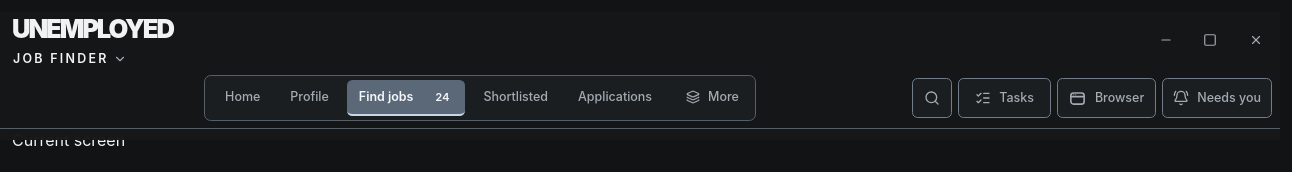
it: JobFinderShell section navigation › gives both module names the menu's full width instead of shortening one
Click the button "Job Finder" at (70, 59), box [8,49,132,69]
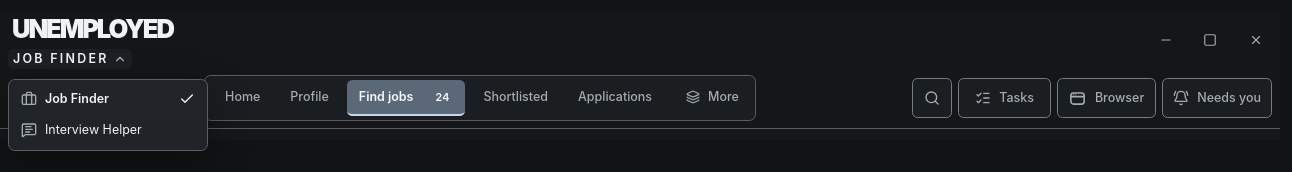
Expected: the 2nd text "Job Finder" is shown, [45,91,109,106]
Expected: the text "Interview Helper" is shown, [45,122,142,137]
Press ArrowDown in the menu, box [8,79,208,150]
Press ArrowUp in the menu, box [8,79,208,150]
Press Escape in the menu, box [8,79,208,150]
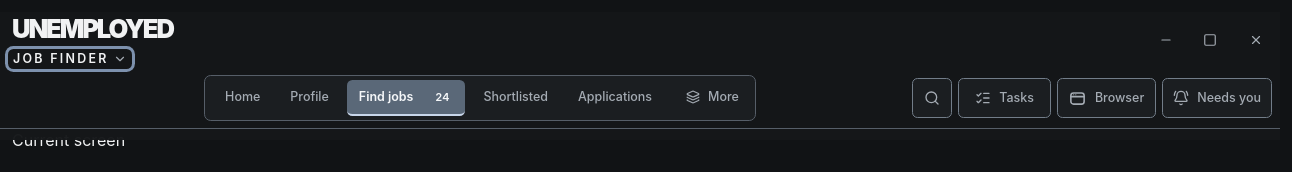
Expected: the button "Job Finder" is collapsed, [8,49,132,69]
